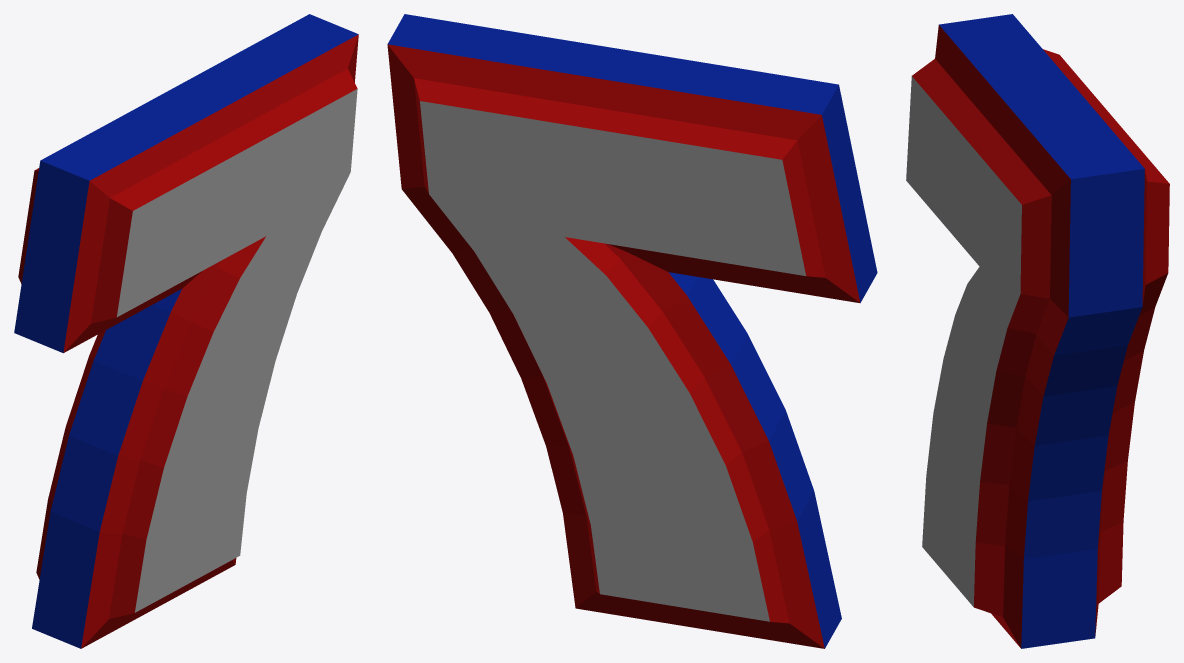
Rendered from sevenListo2.dae.
3 renders of one model, left to right at view 1: azimuth 30°, elevation 25°; view 2: azimuth 150°, elevation 25°; view 3: azimuth 270°, elevation 25°, orthographic. The views are drawn at different scales.
Parts seen in each view (by area): view 1: Text; view 2: Text; view 3: Text.
Boxes of the visible parts, <box> form: Text: <box>14,14,358,648</box>; Text: <box>387,14,877,648</box>; Text: <box>906,14,1169,648</box>.
Bounding box in the file's own units: 0.6415 × 0.3411 × 0.8108.
